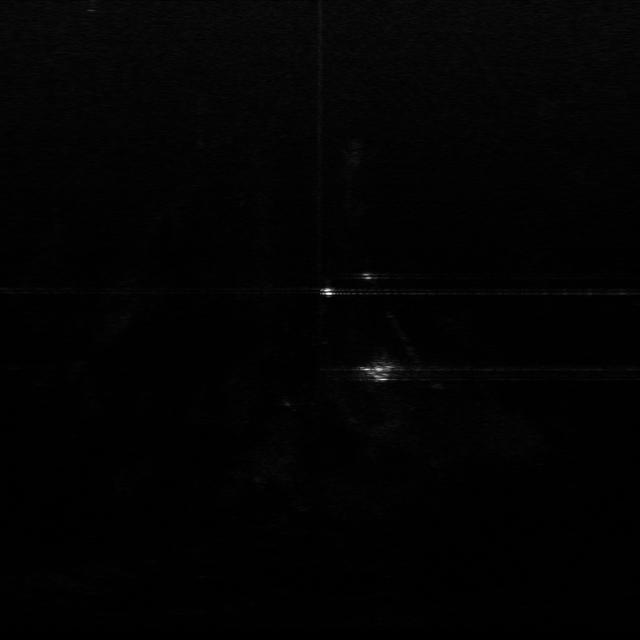rov: (356, 362, 396, 385)
